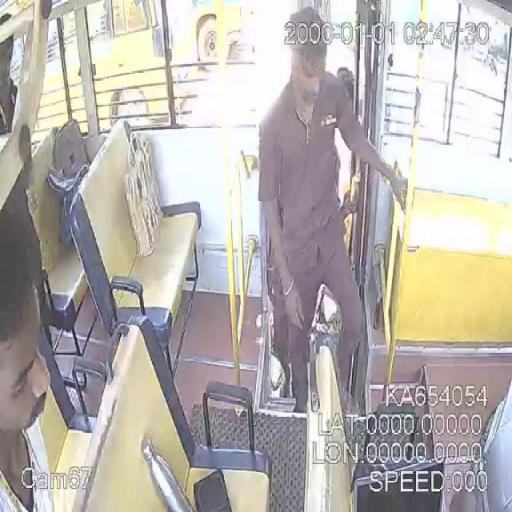persona: (256, 7, 407, 415)
